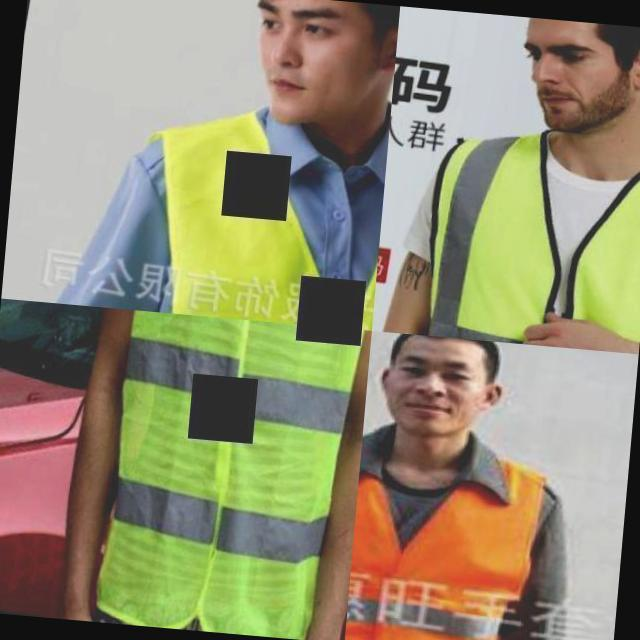vest: (79, 307, 371, 640), (122, 90, 390, 330), (399, 110, 640, 354), (344, 425, 554, 640)
